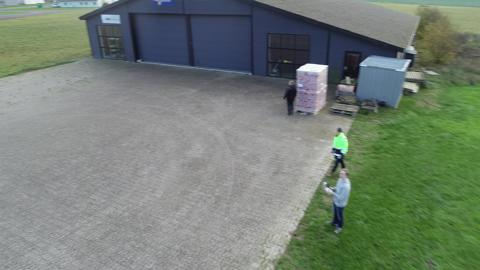RockwoolPallet: (294, 63, 330, 116)
